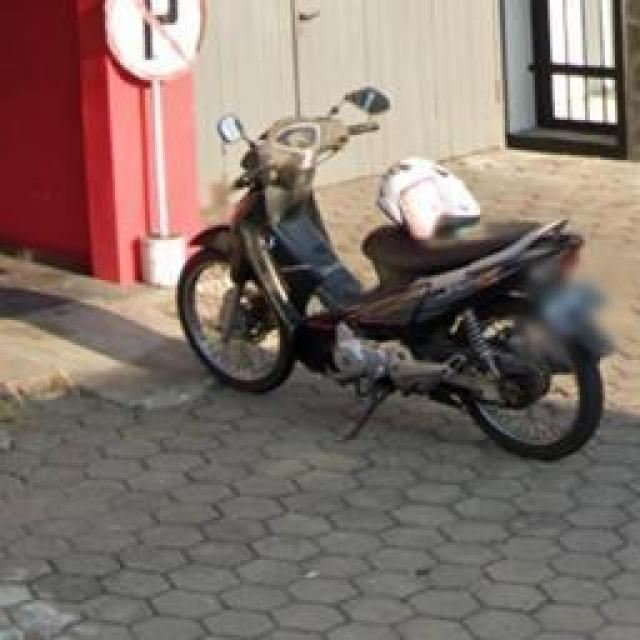motorbike: (177, 73, 622, 467)
